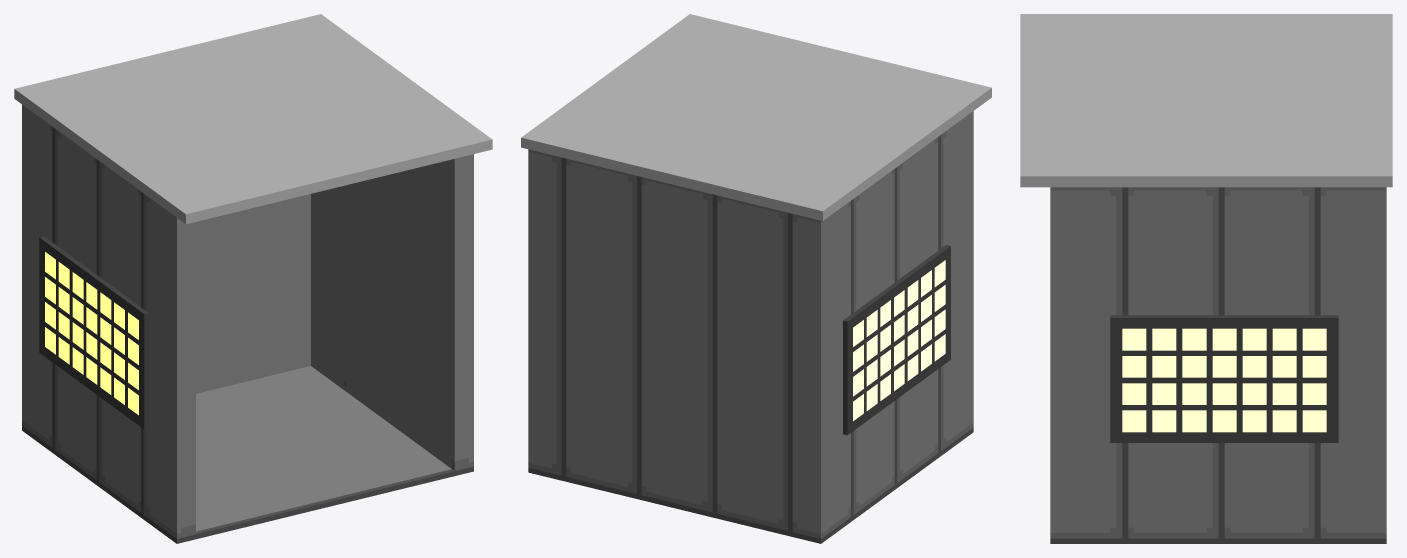
Rendered from typeFiveteen.glb.
The picture shows the model from 3 angles, left to right: view 1: azimuth 30°, elevation 25°; view 2: azimuth 150°, elevation 25°; view 3: azimuth 270°, elevation 25°; orthographic projection. The views are drawn at different scales.
Parts seen in each view (by area): view 1: ObjObject; view 2: ObjObject; view 3: ObjObject.
Boxes of the visible parts, bbox=[...] form: ObjObject: bbox=[14, 14, 492, 543]; ObjObject: bbox=[521, 14, 991, 543]; ObjObject: bbox=[1020, 14, 1392, 543].
Bounding box in the file's own units: 6.4 × 6.8 × 6.2.
Materials: 3 (1 with a texture image).
